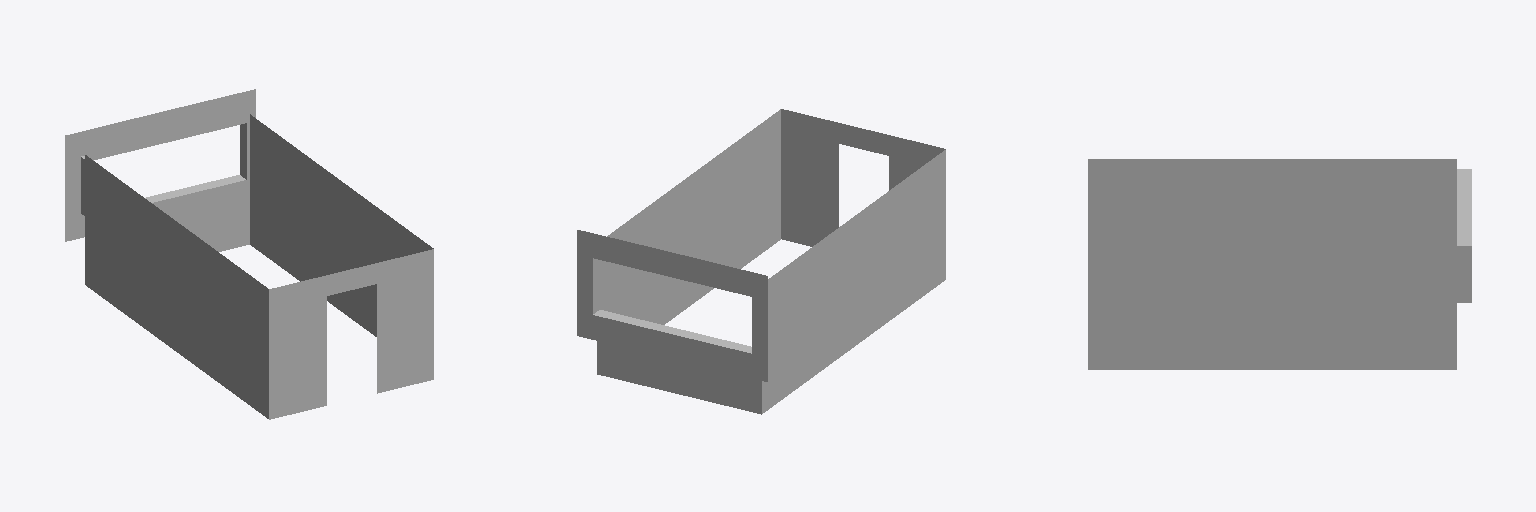
Rendered from WALL.obj.
3 renders of one model, left to right at view 1: azimuth 30°, elevation 25°; view 2: azimuth 150°, elevation 25°; view 3: azimuth 270°, elevation 25°, orthographic.
Visible parts, largest first — view 1: Cube.011_Cube.048; view 2: Cube.011_Cube.048; view 3: Cube.011_Cube.048.
Boxes of the visible parts, box(x1,y1,x2,y2) form: Cube.011_Cube.048: box(65, 89, 433, 419); Cube.011_Cube.048: box(577, 109, 945, 414); Cube.011_Cube.048: box(1088, 159, 1471, 369).
Bounding box in the file's own units: 3.83 × 2.82 × 6.65.